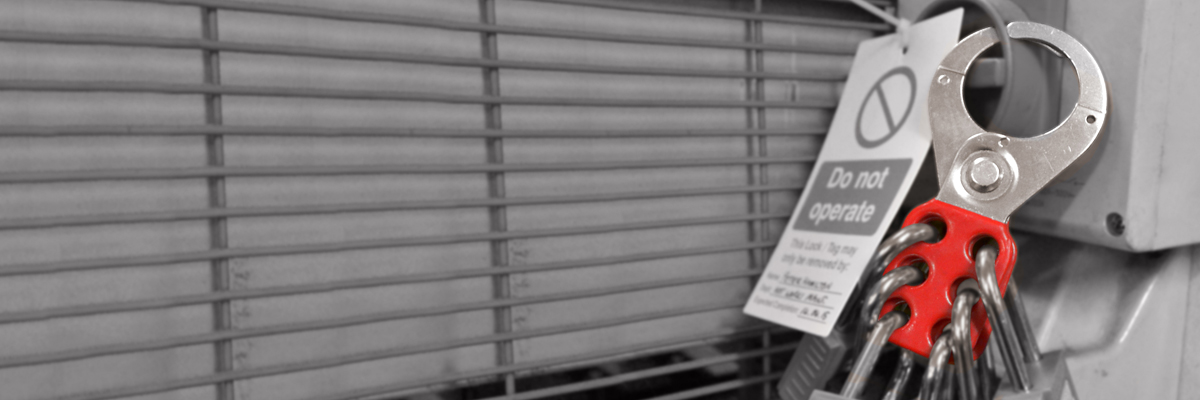hasp: (864, 34, 1125, 345)
